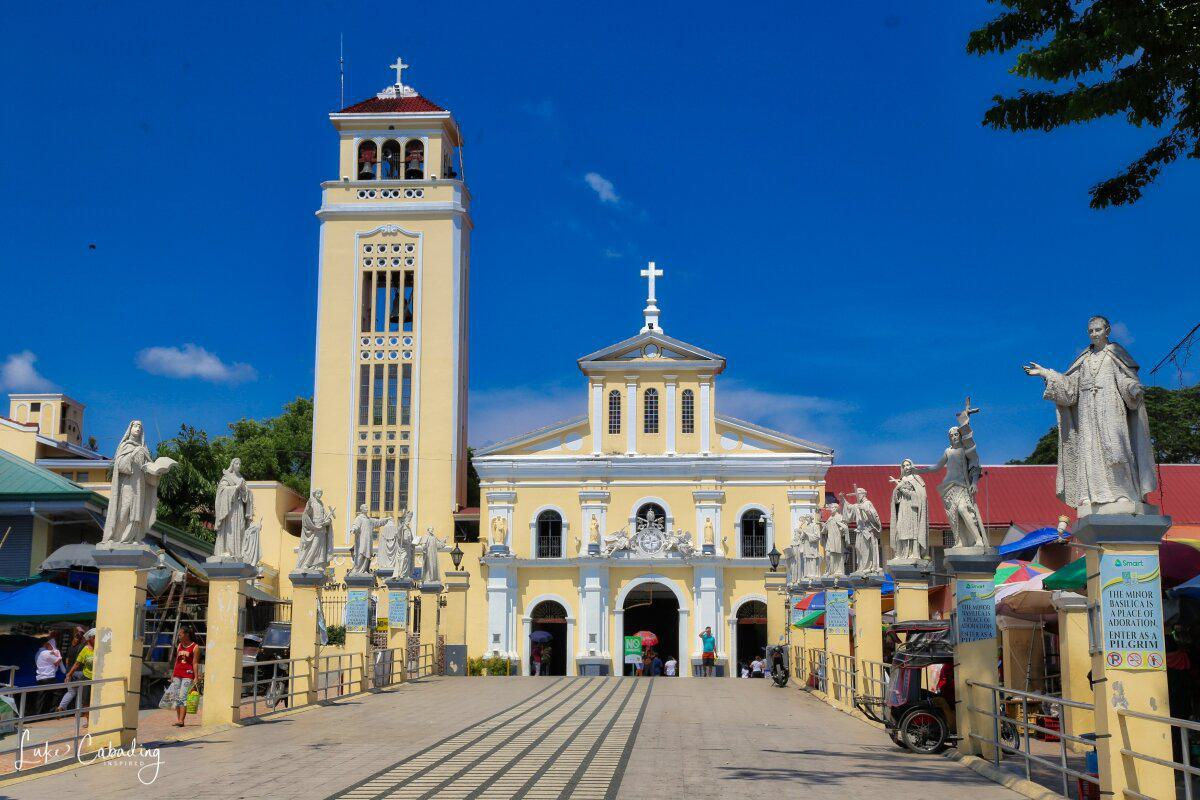manaoag_church_manaoag_pangasinan: (291, 34, 838, 684)
